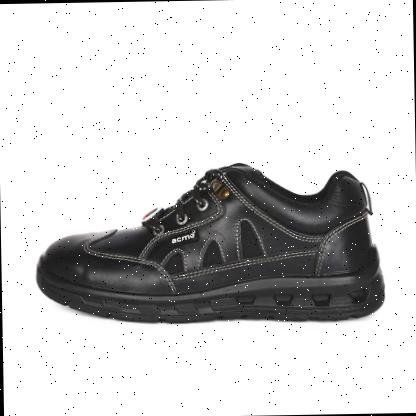bota: (29, 154, 388, 330)
